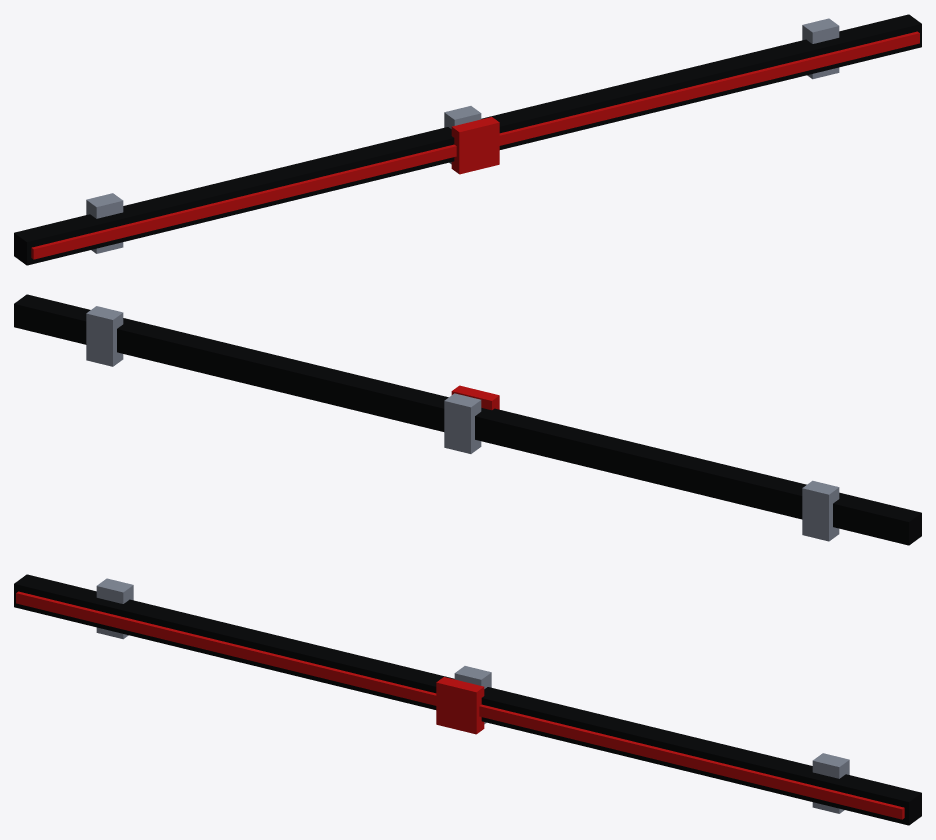
Rendered from SM_Cable_Straight_2m_Red.glb.
3 renders of one model, top to bottom at view 1: azimuth 30°, elevation 25°; view 2: azimuth 150°, elevation 25°; view 3: azimuth 330°, elevation 25°, orthographic.
Visible parts, largest first — view 1: SM_Cable_Straight_2m_Red; view 2: SM_Cable_Straight_2m_Red; view 3: SM_Cable_Straight_2m_Red.
Part boxes in pixels (box(x1,y1,x2,y2)): SM_Cable_Straight_2m_Red: box(14, 14, 921, 265); SM_Cable_Straight_2m_Red: box(14, 294, 921, 545); SM_Cable_Straight_2m_Red: box(14, 574, 921, 825).
Bounding box in the file's own units: 2 × 0.1 × 0.085.
